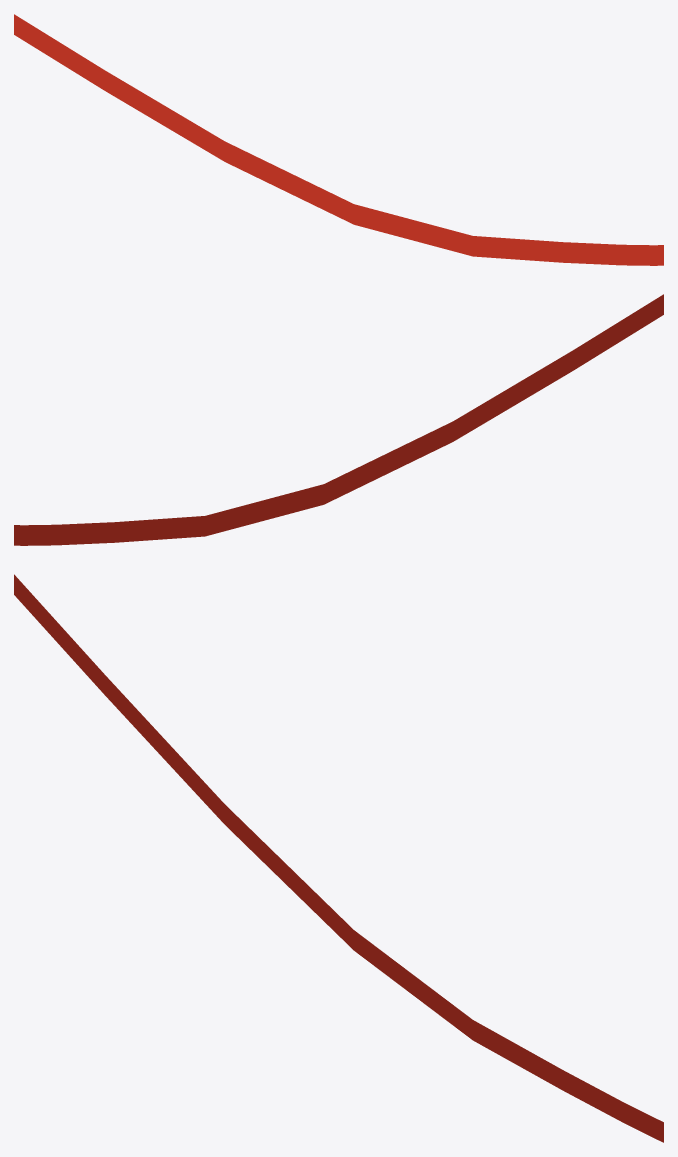
Rendered from dainohei.fbx.
The picture shows the model from 3 angles, top to bottom: view 1: azimuth 30°, elevation 25°; view 2: azimuth 150°, elevation 25°; view 3: azimuth 330°, elevation 25°; orthographic projection.
Parts seen in each view (by area): view 1: 台の塀; view 2: 台の塀; view 3: 台の塀.
Part boxes in pixels (bbox=[...]): 台の塀: bbox=[14, 14, 663, 265]; 台の塀: bbox=[14, 294, 663, 545]; 台の塀: bbox=[14, 574, 663, 1142].
Bounding box in the file's own units: 1646 × 993 × 0.000145.
